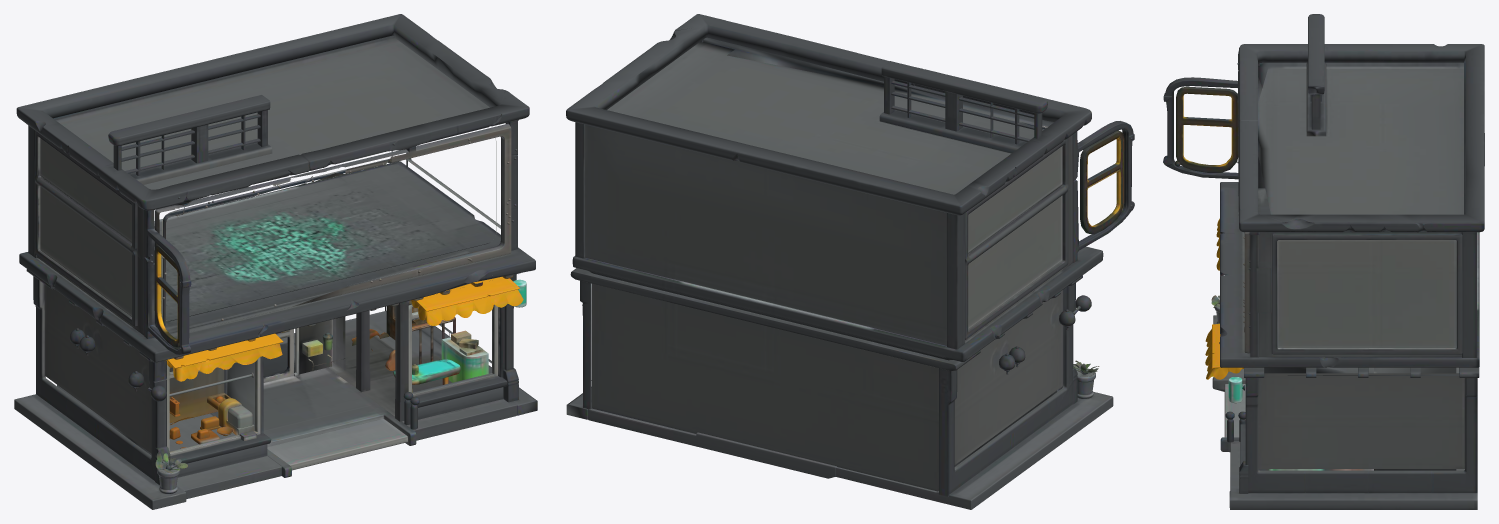
Rendered from toonstudio_shopfront.glb.
The picture shows the model from 3 angles, left to right: view 1: azimuth 30°, elevation 25°; view 2: azimuth 150°, elevation 25°; view 3: azimuth 270°, elevation 25°; orthographic projection. The views are drawn at different scales.
Parts seen in each view (by area): view 1: tripo_47f37d2e_2cf9_48d0_bc16_292126651bdf; view 2: tripo_47f37d2e_2cf9_48d0_bc16_292126651bdf; view 3: tripo_47f37d2e_2cf9_48d0_bc16_292126651bdf.
Part boxes in pixels (x1=…): tripo_47f37d2e_2cf9_48d0_bc16_292126651bdf: x1=14, y1=14, x2=537, y2=509; tripo_47f37d2e_2cf9_48d0_bc16_292126651bdf: x1=566, y1=14, x2=1134, y2=509; tripo_47f37d2e_2cf9_48d0_bc16_292126651bdf: x1=1163, y1=14, x2=1484, y2=509.
Size of the model in its own units: 4.5 by 3.66 by 3.34.
Materials: 1 (1 with a texture image).
